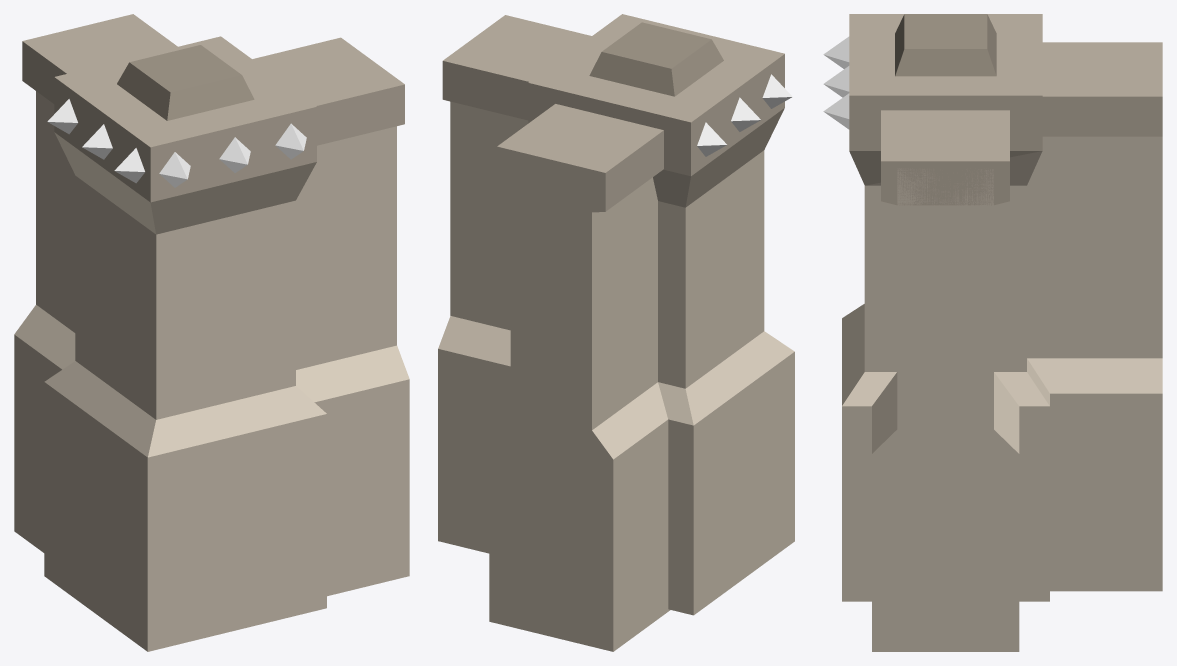
The model's file is Wall_Corner.DAE.
3 views of the same model, side by side, from view 1: azimuth 30°, elevation 25°; view 2: azimuth 150°, elevation 25°; view 3: azimuth 270°, elevation 25° (orthographic). The views are drawn at different scales.
Visible parts, largest first — view 1: Wall_COrner; view 2: Wall_COrner; view 3: Wall_COrner.
Boxes of the visible parts, box(x1,y1,x2,y2) form: Wall_COrner: box(14, 14, 409, 651); Wall_COrner: box(438, 14, 794, 651); Wall_COrner: box(823, 14, 1162, 651).
Size of the model in its own units: 0.7816 by 1.34 by 0.7816.
